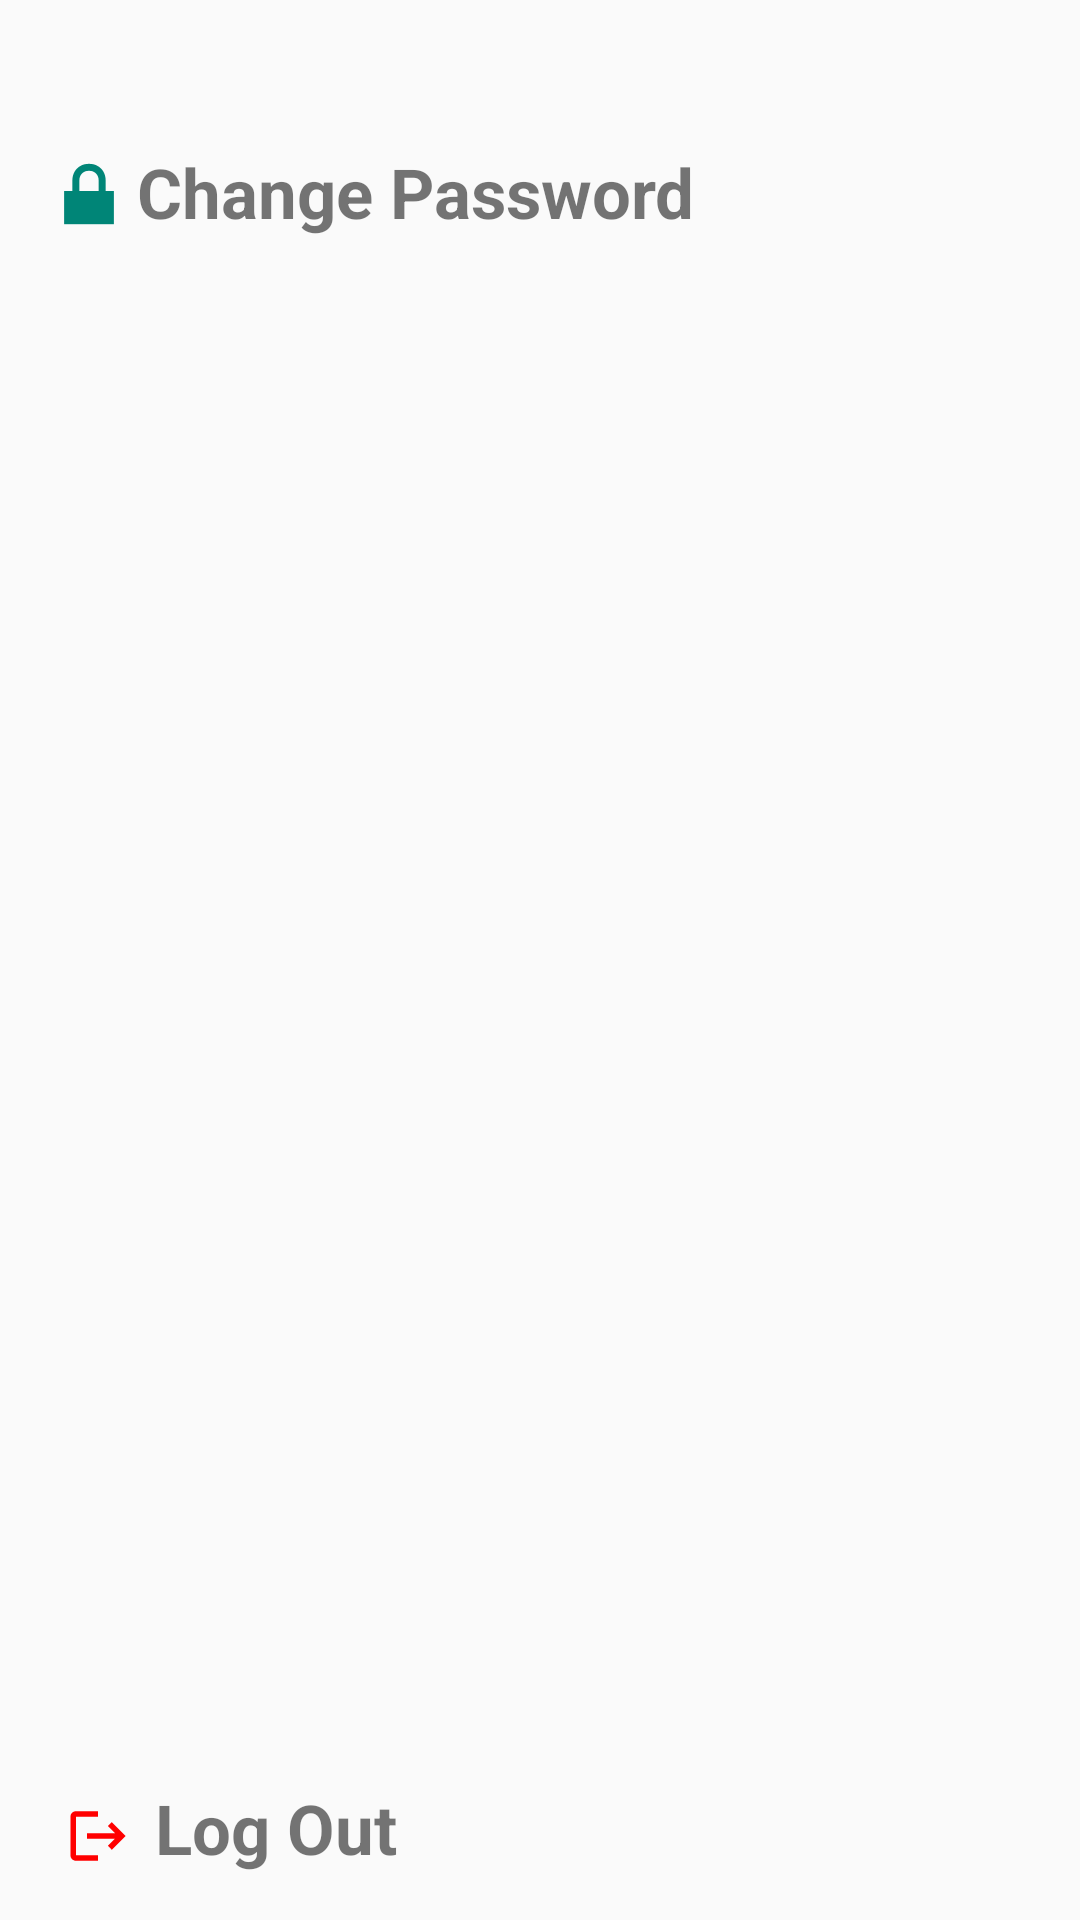

Icon click points for this 1080x1920 phone screenshot, format (x=x, y=y):
lock: (x=89, y=194)
